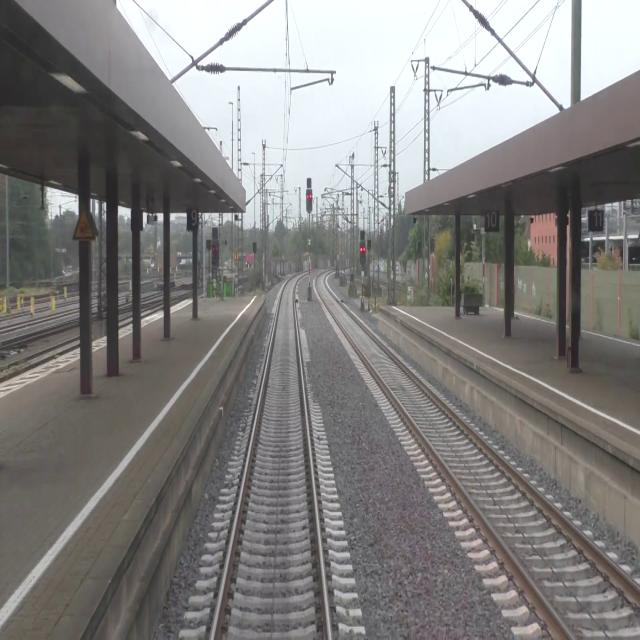rail-track: (316, 271, 640, 639), (214, 274, 327, 639), (0, 339, 79, 379), (43, 319, 78, 332), (0, 337, 28, 347)
